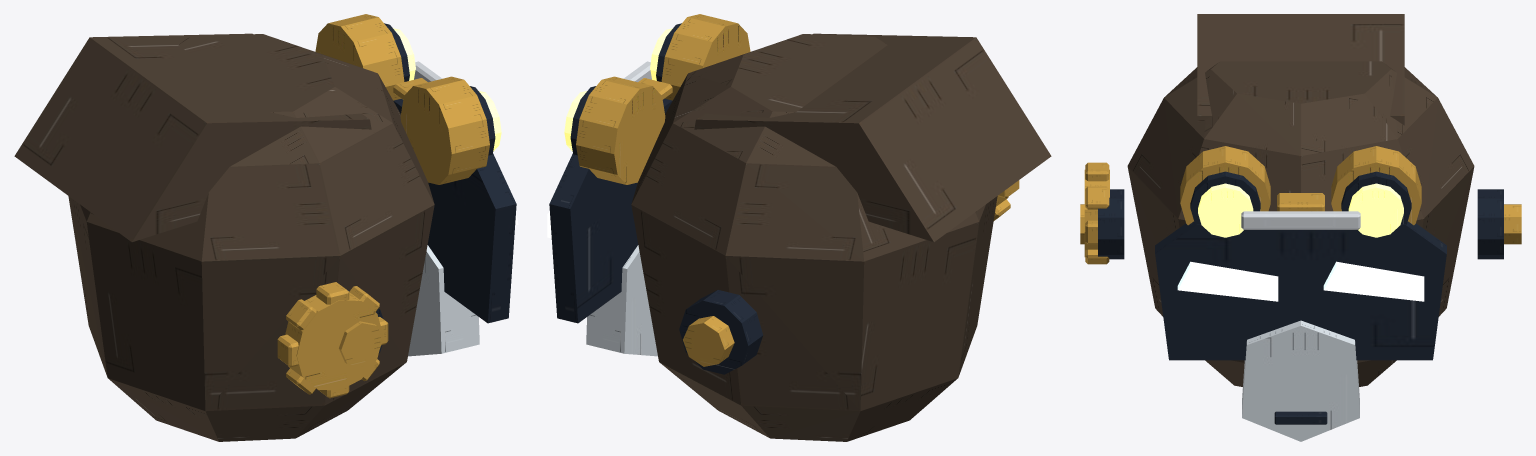
Rendered from goggles.glb.
3 views of the same model, side by side, from view 1: azimuth 30°, elevation 25°; view 2: azimuth 150°, elevation 25°; view 3: azimuth 270°, elevation 25° (orthographic). The views are drawn at different scales.
Parts seen in each view (by area): view 1: head; view 2: head; view 3: head.
Boxes of the visible parts, bbox=[...] form: head: bbox=[14, 14, 518, 441]; head: bbox=[547, 14, 1051, 441]; head: bbox=[1080, 14, 1521, 441].
Bounding box in the file's own units: 0.3115 × 0.265 × 0.351.
Materials: 7 (7 with a texture image).
